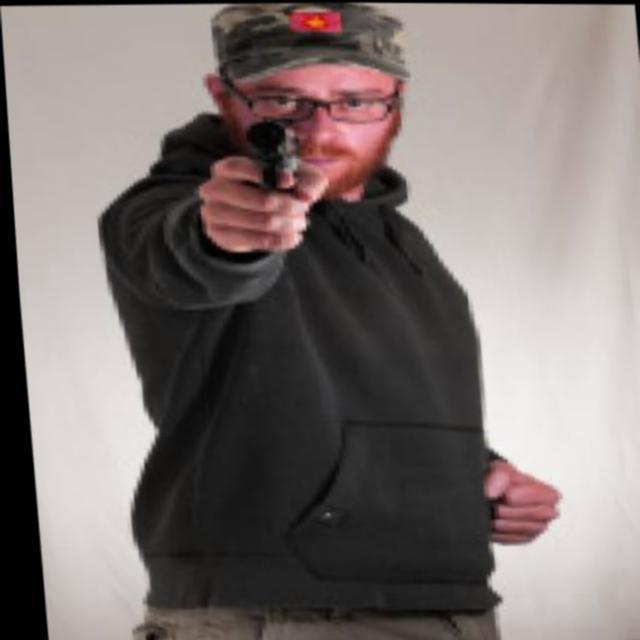weapon: (231, 112, 316, 263)
